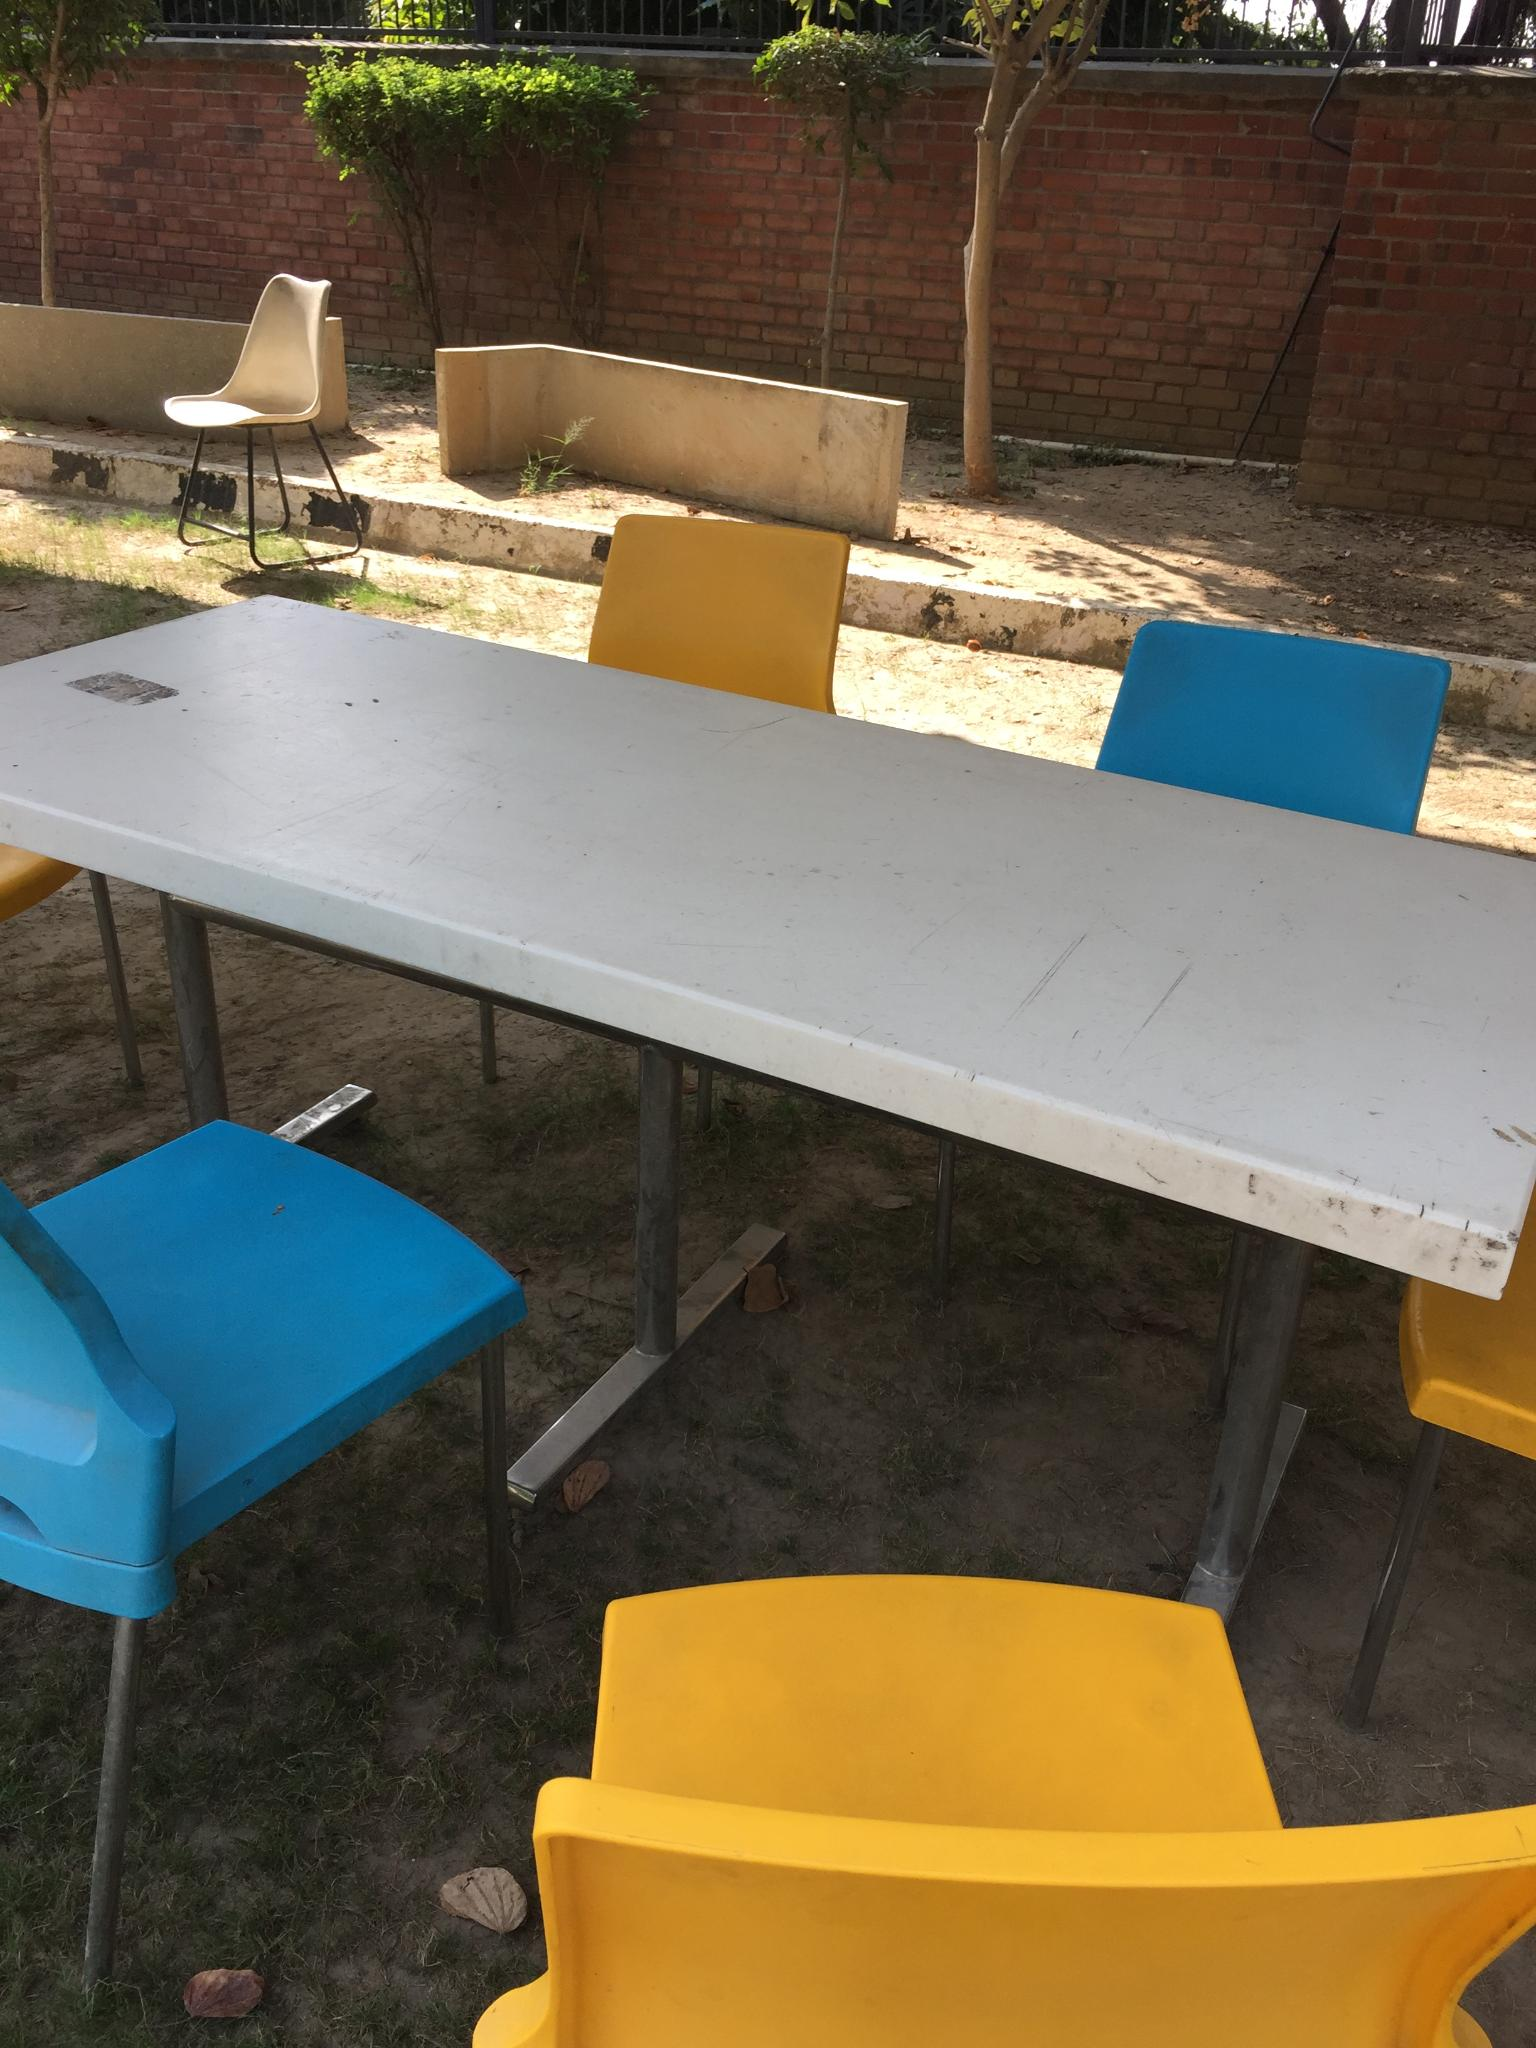chair: (2, 1109, 529, 2011), (928, 616, 1452, 1301), (470, 1774, 1534, 2046), (474, 510, 849, 1127), (1339, 1187, 1536, 1729), (161, 271, 368, 581)
